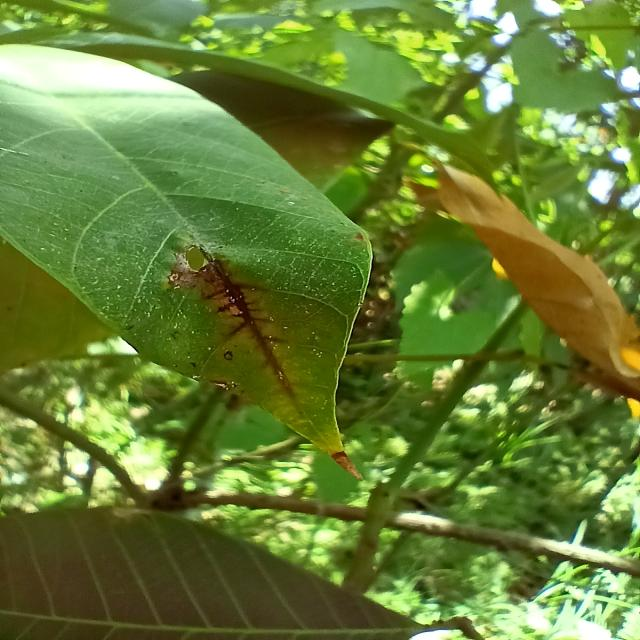Colletotrichum: (223, 350, 233, 360)
Corynespora: (198, 248, 293, 395)
Leaf-Blight: (332, 450, 362, 480)
